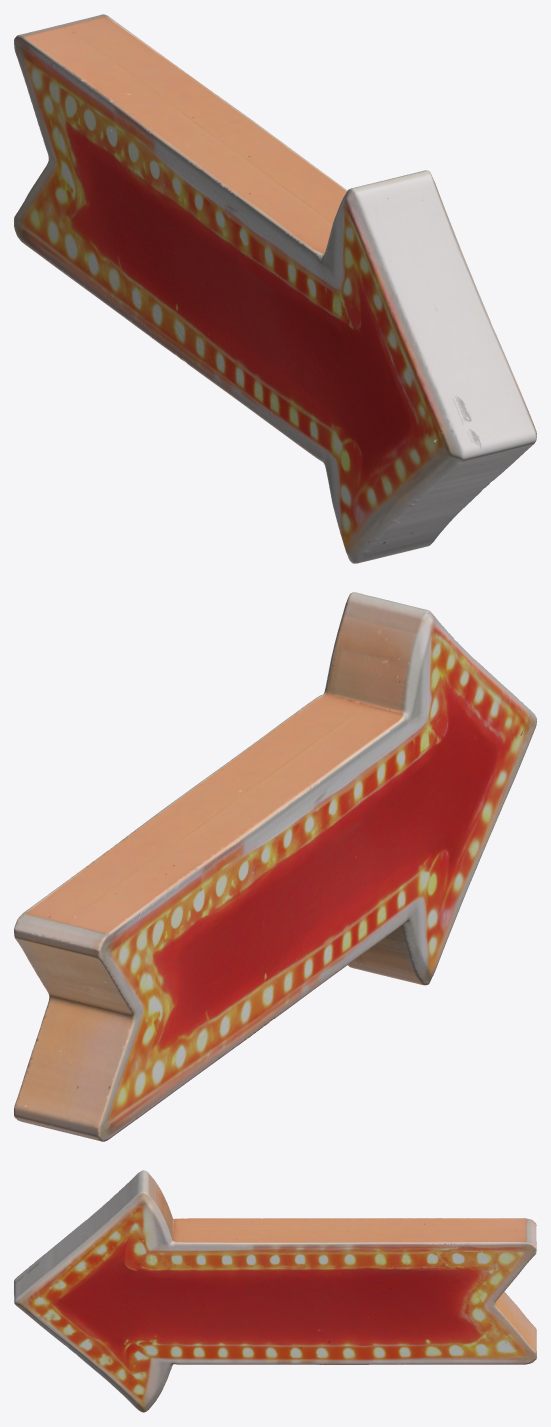
Rendered from Meshy_AI_arrow_0204152625_texture.glb.
3 renders of one model, top to bottom at view 1: azimuth 30°, elevation 25°; view 2: azimuth 150°, elevation 25°; view 3: azimuth 270°, elevation 25°, orthographic. The views are drawn at different scales.
Size of the model in its own units: 0.2329 by 0.9324 by 2.
Materials: 1 (1 with a texture image).
